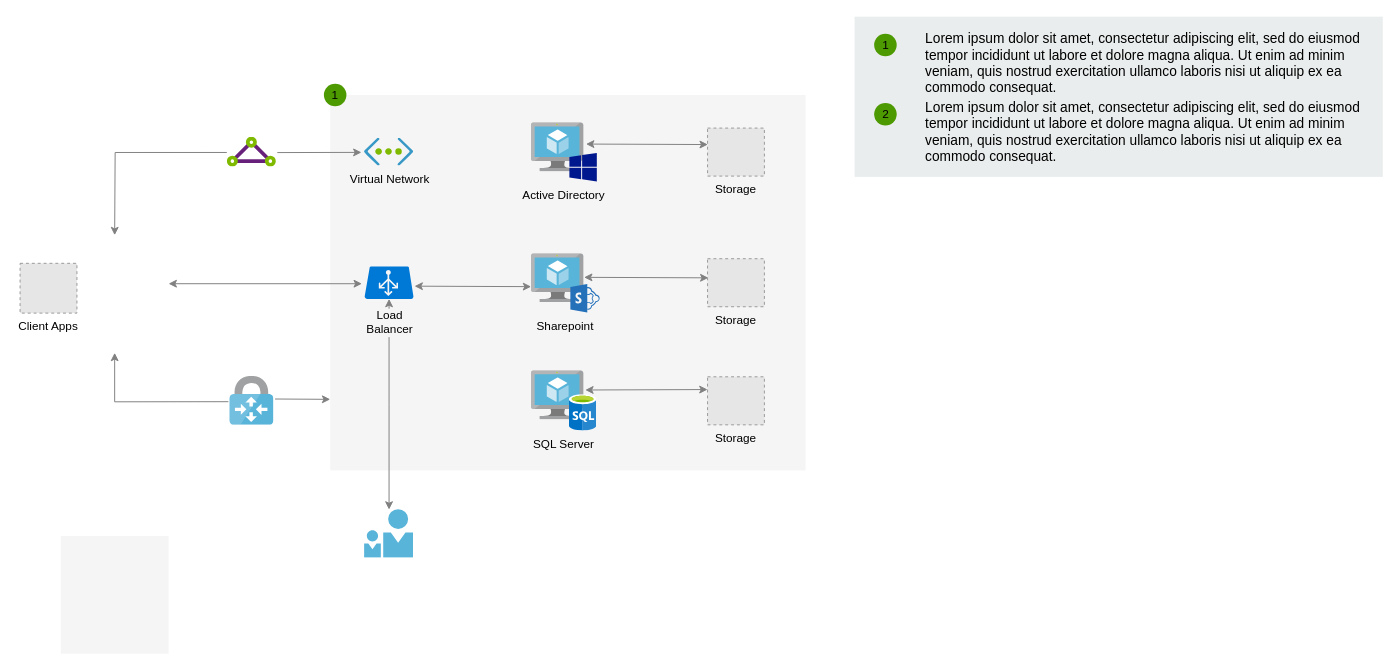
This 1399x670 diagram has some shape labels left out. Grey dashed boxes stand in for pictures. The box of each missing label's shape, as (x1, y1, x2, y2) in pixels:
Express Route: (227, 137, 276, 167)
Users: (364, 509, 413, 558)
VPN Gateway: (229, 376, 273, 425)
